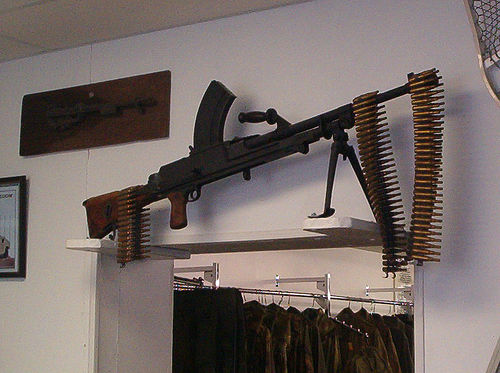rifle: (91, 58, 458, 300)
